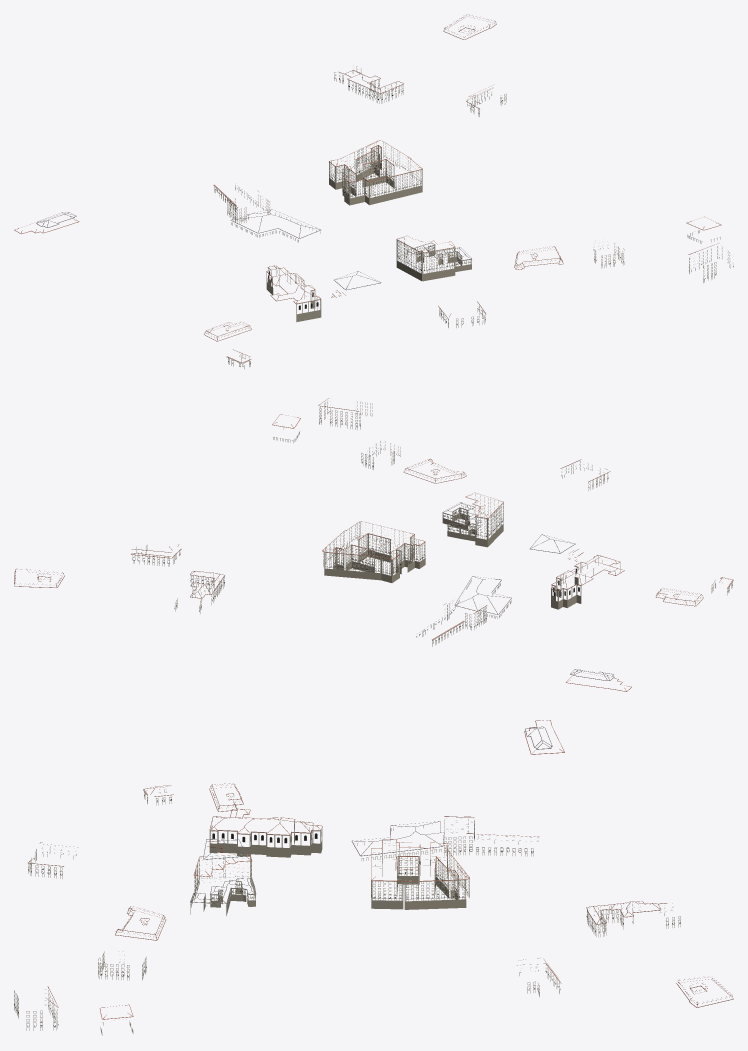
3 renders of one model, top to bottom at view 1: azimuth 30°, elevation 25°; view 2: azimuth 150°, elevation 25°; view 3: azimuth 270°, elevation 25°, orthographic. The views are drawn at different scales.
Visible parts, largest first — view 1: detail; view 2: detail; view 3: detail.
Part boxes in pixels (x1,y1,x2,y2): detail: [14, 14, 733, 368]; detail: [14, 398, 733, 691]; detail: [14, 720, 733, 1035].
Size of the model in its own units: 518 by 65.51 by 487.
